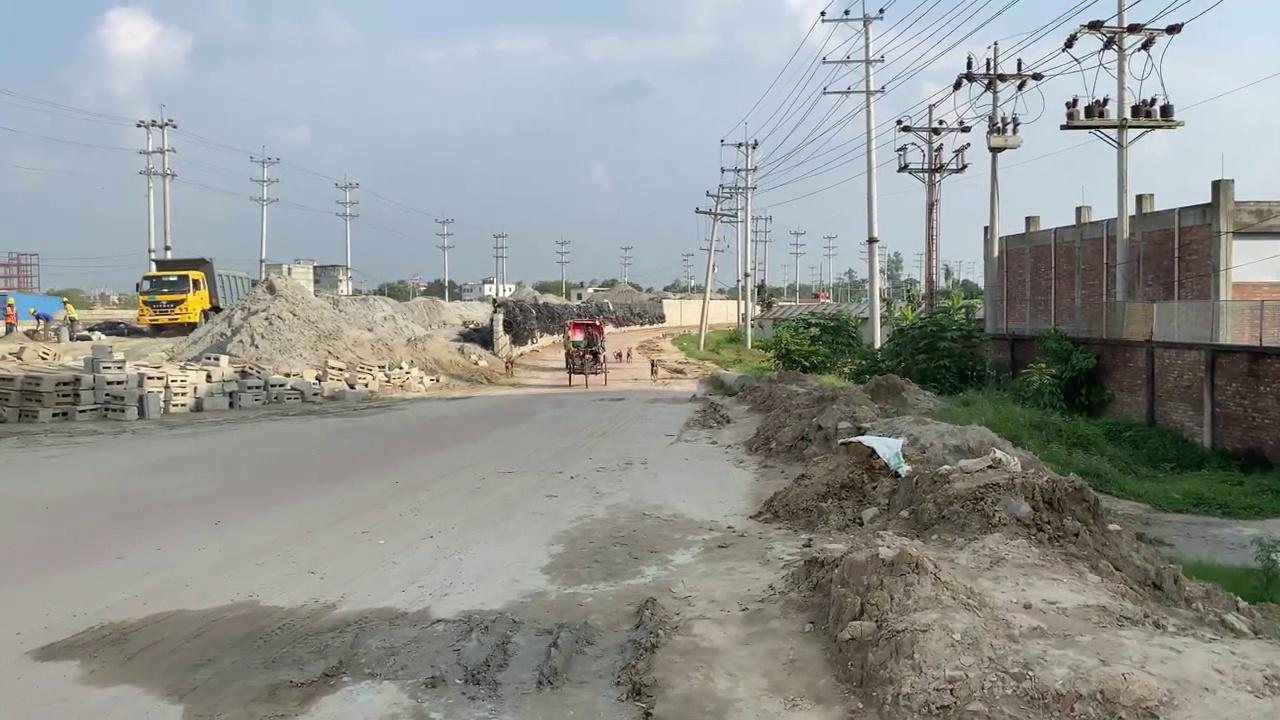Garbage: (837, 433, 911, 477)
Pole: (819, 1, 888, 350), (247, 145, 280, 280)
Tree: (135, 256, 221, 335), (562, 316, 608, 387)
